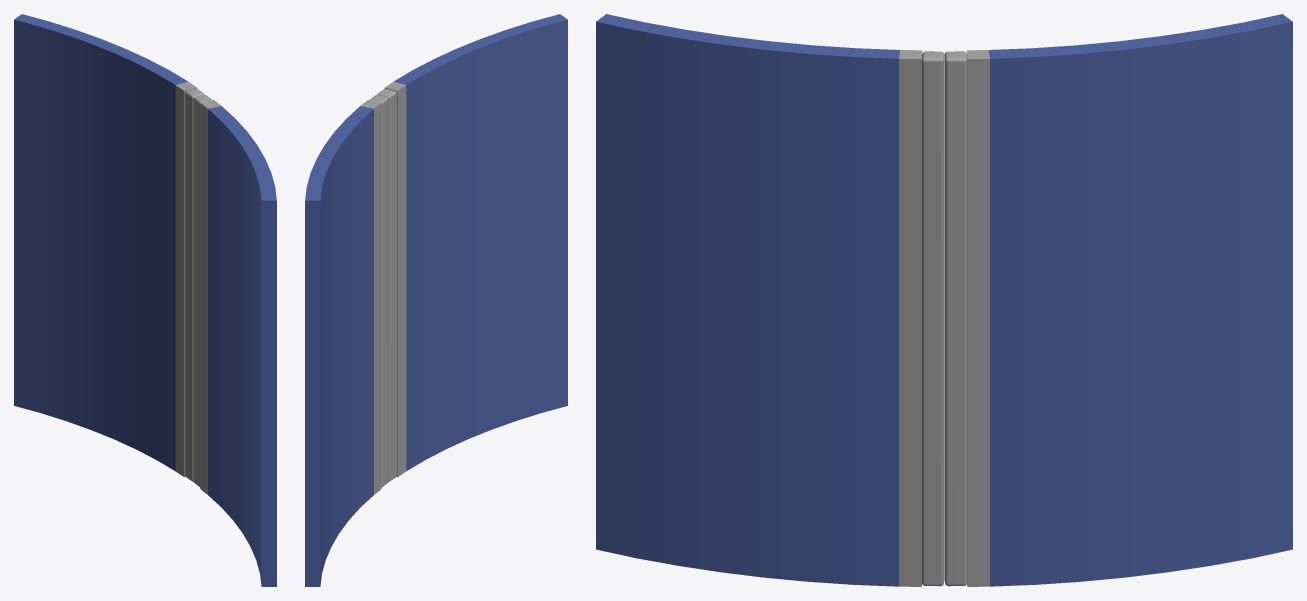
The model's file is DoorsElevator.fbx.
The picture shows the model from 3 angles, left to right: view 1: azimuth 30°, elevation 25°; view 2: azimuth 150°, elevation 25°; view 3: azimuth 270°, elevation 25°; orthographic projection. The views are drawn at different scales.
Parts seen in each view (by area): view 1: L_DoorElevator, R_DoorElevator; view 2: R_DoorElevator, L_DoorElevator; view 3: L_DoorElevator, R_DoorElevator.
Boxes of the visible parts, bbox=[...] form: L_DoorElevator: bbox=[14, 14, 204, 481]; R_DoorElevator: bbox=[193, 95, 276, 586]; R_DoorElevator: bbox=[377, 14, 567, 481]; L_DoorElevator: bbox=[305, 95, 388, 586]; L_DoorElevator: bbox=[944, 14, 1292, 586]; R_DoorElevator: bbox=[596, 14, 944, 586].
Size of the model in its own units: 51.26 by 278 by 333.
